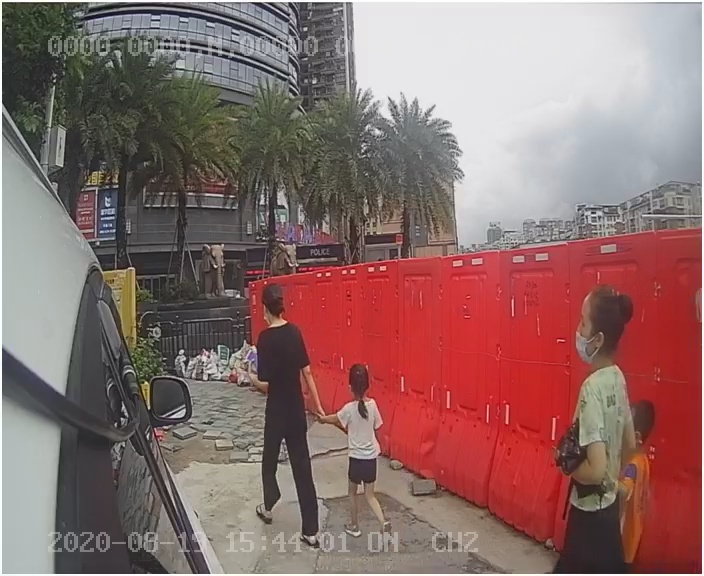person: (236, 276, 330, 546), (316, 361, 413, 535)
